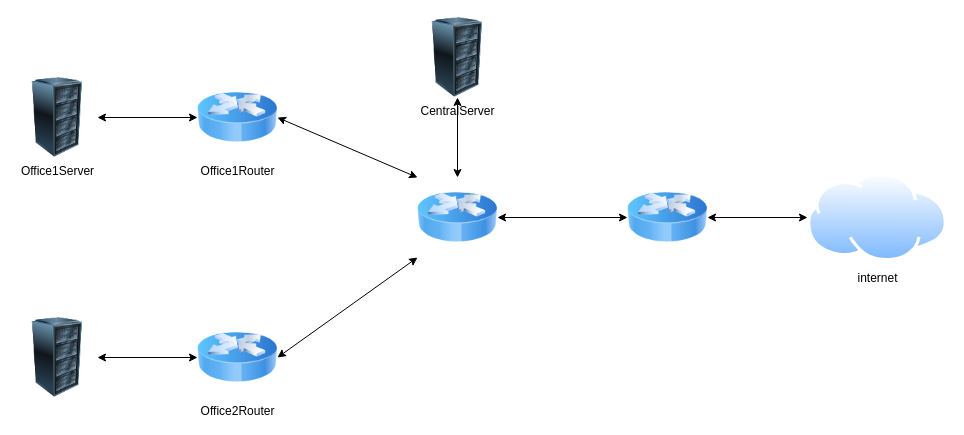
The diagram is 964 pixels wide and 435 high, and some of its shapes have lost their labels. The shapes that lost their labels are listed below. From the top down, each one's centre as x and y in pixels, then its label:
the point at 457,217: CentralRouter
the point at 667,217: InternetRouter
the point at 57,357: Office2Server
